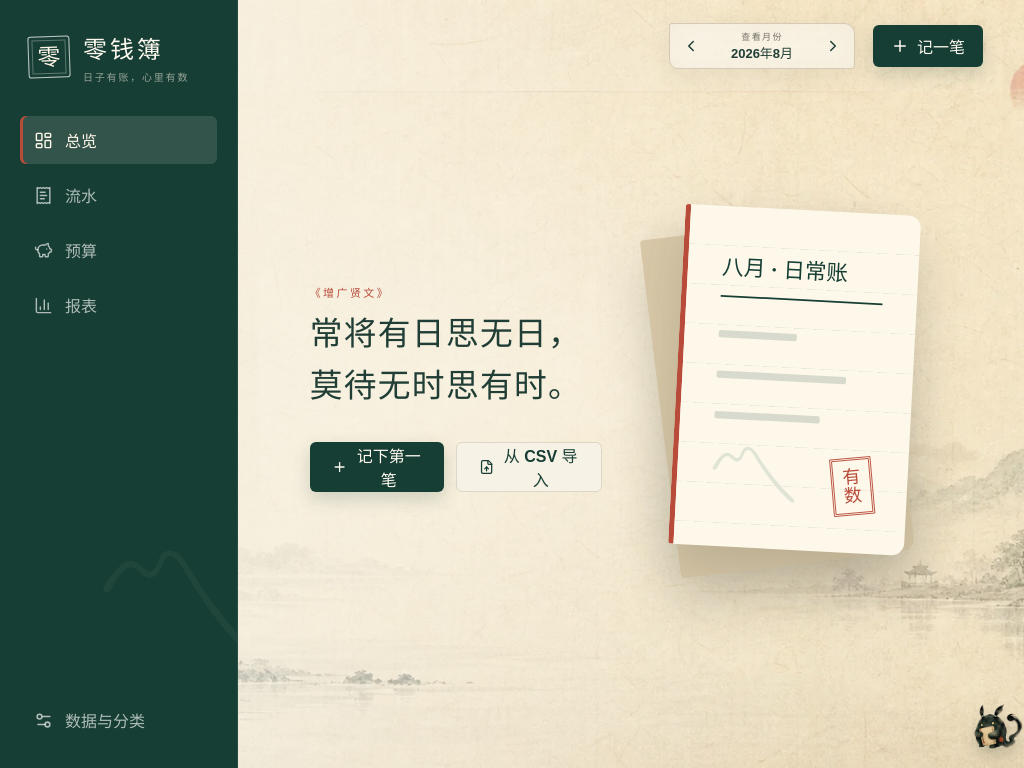
首次记账流程 › 从空账簿打开记账表单并校验金额
Step 1. Click the button "记下第一笔" → (377,467), box top-left (310, 442), bottom-right (444, 492)
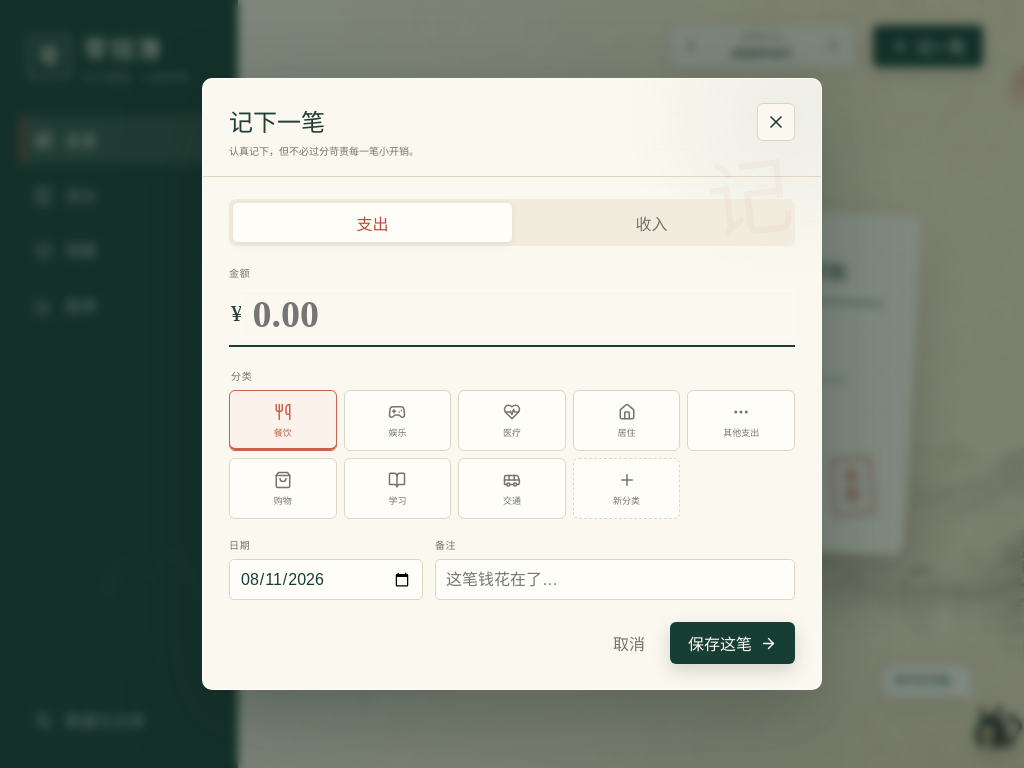
Check: the dialog is shown, box top-left (202, 78), bottom-right (822, 690)
Step 2. Click the button "保存这笔" → (732,643), box top-left (670, 622), bottom-right (795, 664)
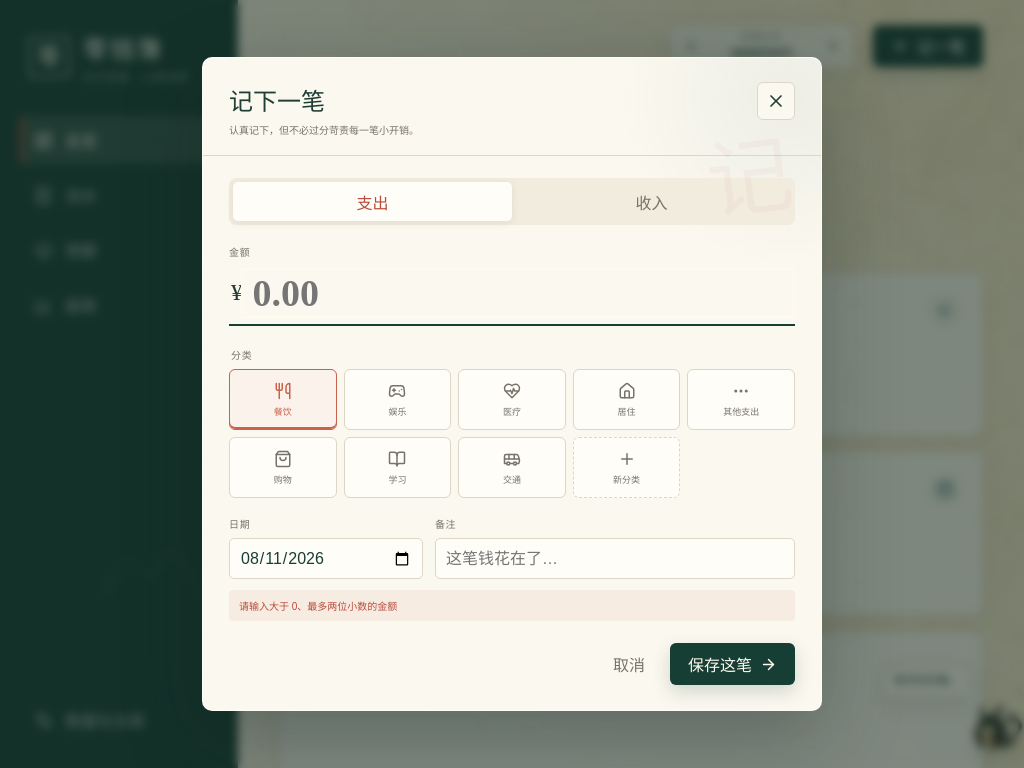
Check: the text "请输入大于 0、最多两位小数的金额" is shown, box top-left (229, 590), bottom-right (795, 621)
